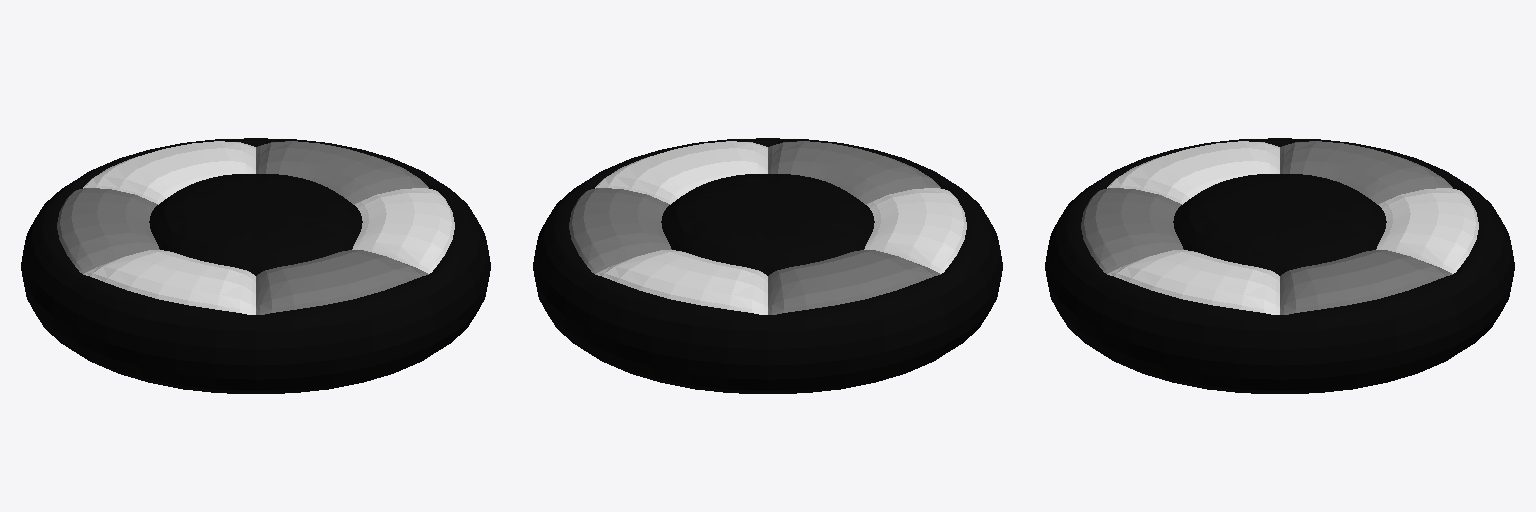
File: chair_obererTeil.obj
3 renders of one model, left to right at view 1: azimuth 30°, elevation 25°; view 2: azimuth 150°, elevation 25°; view 3: azimuth 270°, elevation 25°, orthographic.
Visible parts, largest first — view 1: footstool_blender.004; view 2: footstool_blender.004; view 3: footstool_blender.004.
Boxes of the visible parts, box(x1,y1,x2,y2) form: footstool_blender.004: box(21, 138, 490, 393); footstool_blender.004: box(533, 138, 1002, 393); footstool_blender.004: box(1045, 138, 1514, 393).
Size of the model in its own units: 2.03 by 0.482 by 2.03.